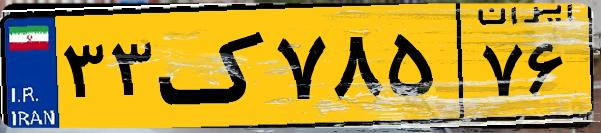3: (57, 26, 110, 100), (110, 28, 158, 98)
5: (385, 28, 445, 110)
6: (525, 38, 570, 115)
7: (270, 28, 330, 110), (475, 38, 525, 113)
8: (330, 28, 385, 110)
ک: (158, 12, 270, 120)
